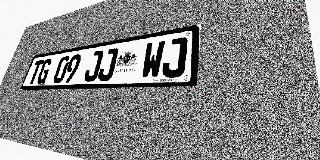0: (52, 55, 71, 83)
9: (62, 53, 82, 83)
G: (35, 58, 53, 84)
J: (161, 37, 188, 78), (96, 48, 119, 81), (83, 50, 104, 82)
T: (27, 60, 44, 85)
W: (140, 40, 165, 79)
